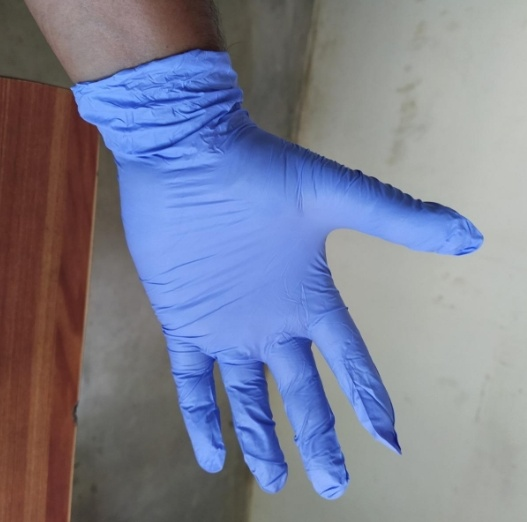Glove: (70, 46, 484, 502)
